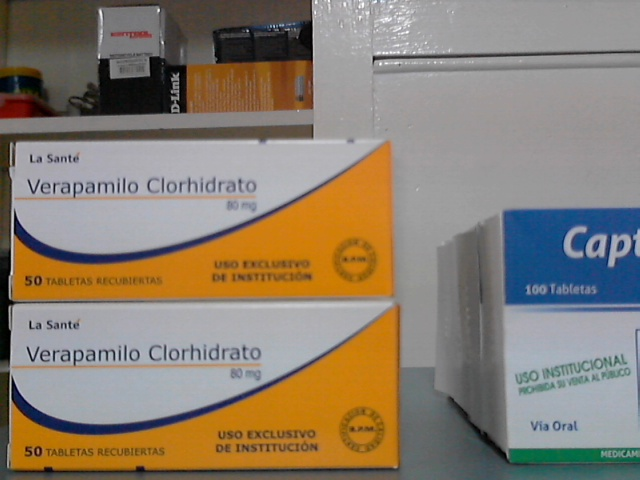LaSante: (13, 305, 398, 468), (16, 143, 392, 298)
